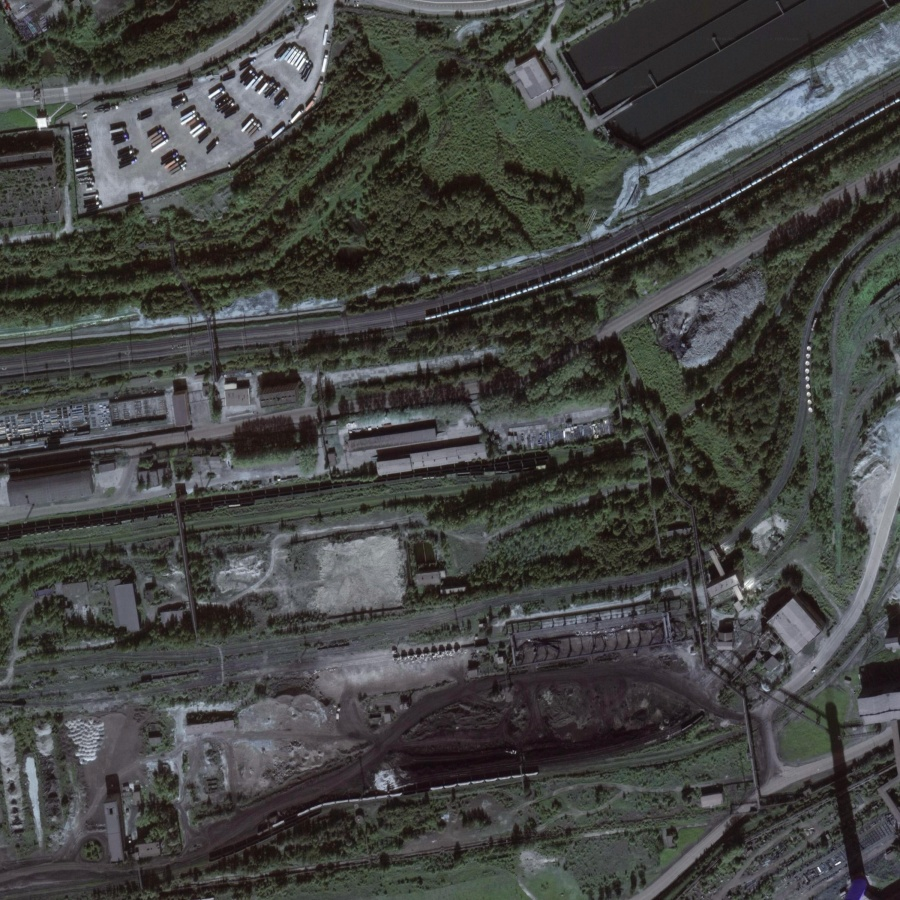PowerPlant: (273, 638, 713, 802)
